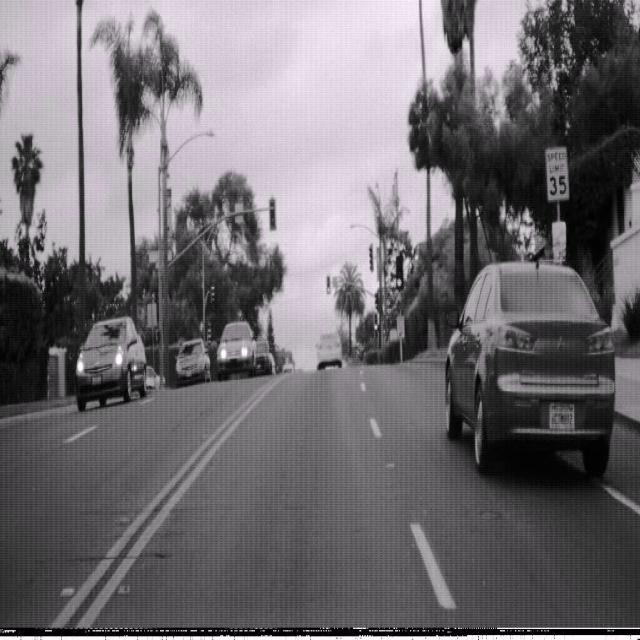speedLimit35: (545, 145, 570, 202)
